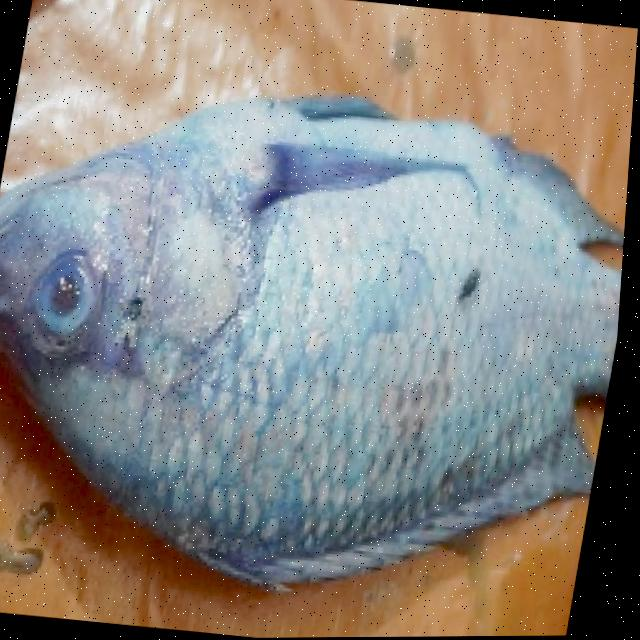Non-Fresh: (0, 87, 630, 599)
